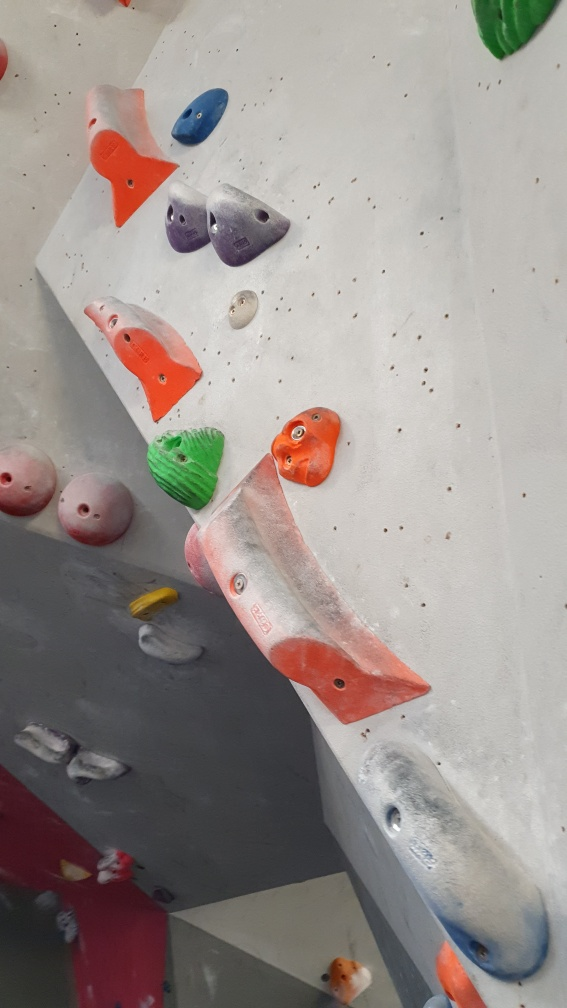Crimp: (167, 82, 228, 145)
Jug: (205, 177, 292, 267), (149, 418, 224, 510), (161, 177, 220, 253)
Pinch: (200, 446, 436, 731), (355, 735, 549, 982), (74, 292, 205, 417), (78, 78, 181, 225)
Sloper: (54, 470, 138, 546), (1, 447, 61, 521)
